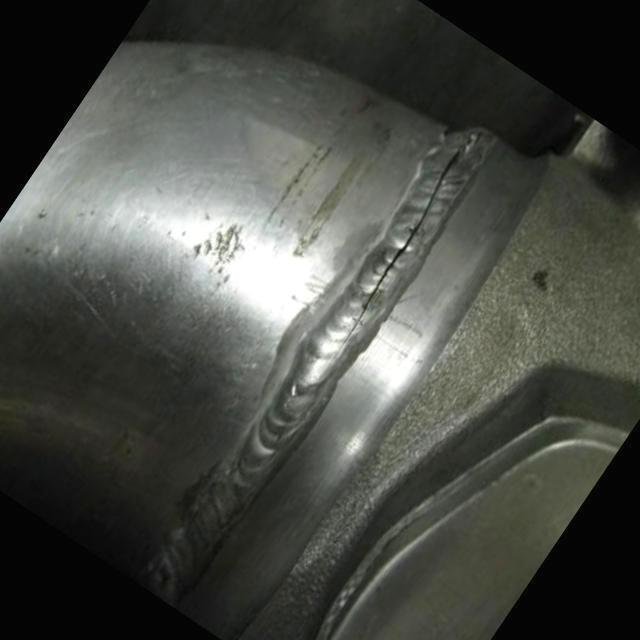defect: (328, 132, 476, 367)
